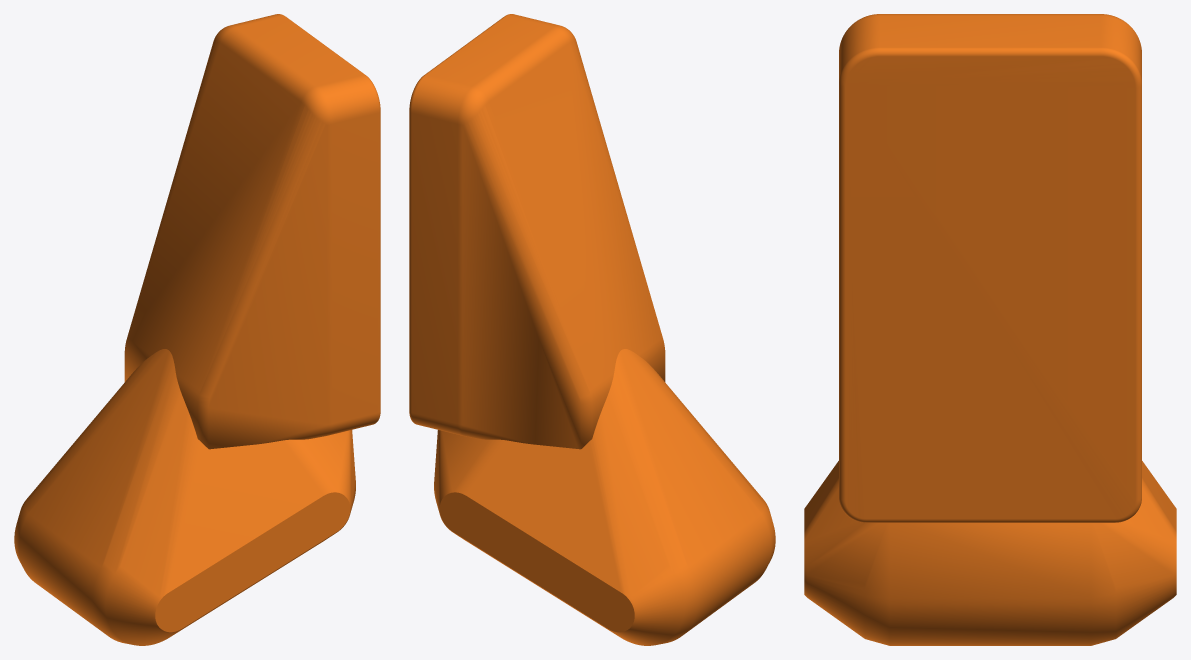
3 views of the same model, side by side, from view 1: azimuth 30°, elevation 25°; view 2: azimuth 150°, elevation 25°; view 3: azimuth 270°, elevation 25° (orthographic). The views are drawn at different scales.
Parts seen in each view (by area): view 1: gripper_frame; view 2: gripper_frame; view 3: gripper_frame.
Part boxes in pixels (left/top/right/bottom): gripper_frame: left=14, top=14, right=380, bottom=645; gripper_frame: left=409, top=14, right=775, bottom=645; gripper_frame: left=804, top=14, right=1176, bottom=645.
Bounding box in the file's own units: 0.0314 × 0.057 × 0.027.
